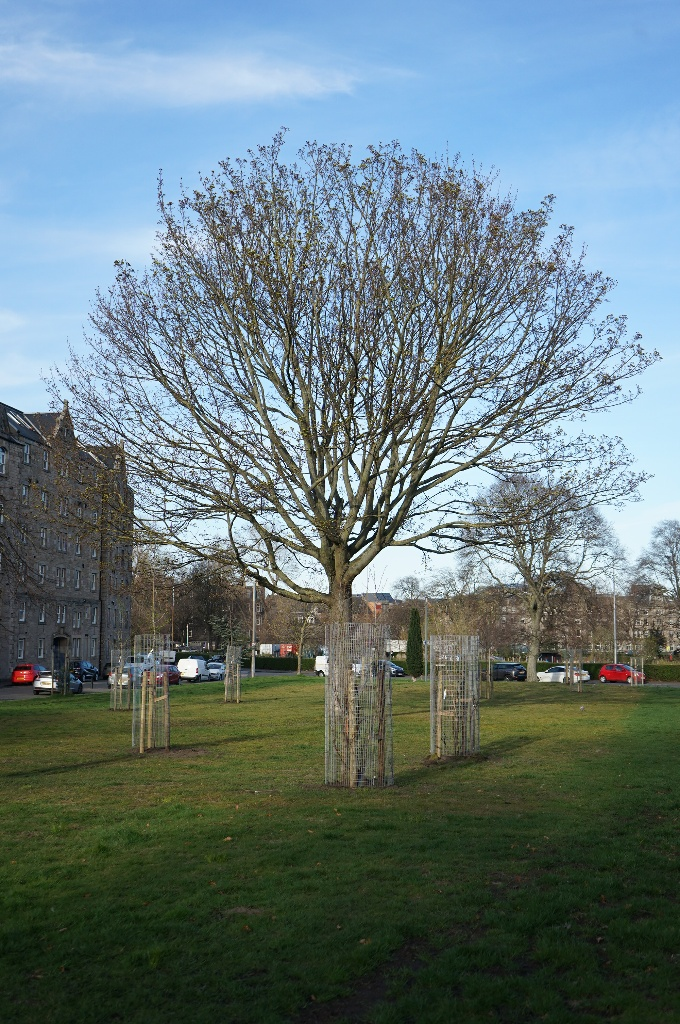Tree: (40, 107, 623, 808), (423, 455, 631, 707), (638, 518, 680, 683)
